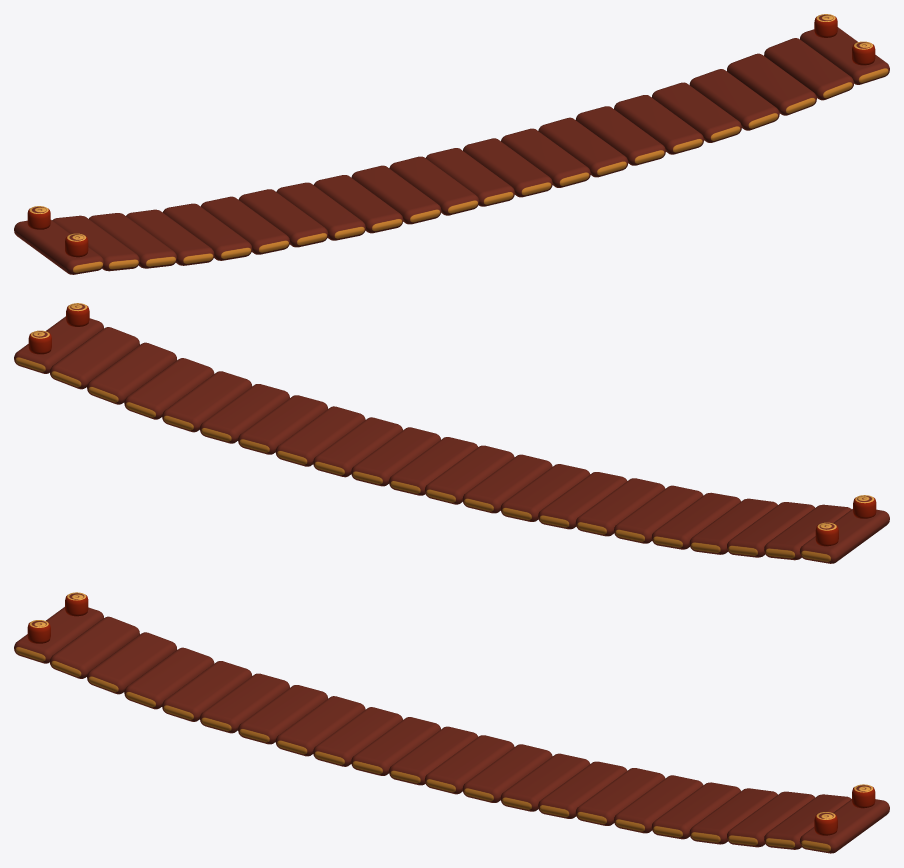
File: BridgeTibetan.fbx
3 renders of one model, top to bottom at view 1: azimuth 30°, elevation 25°; view 2: azimuth 150°, elevation 25°; view 3: azimuth 330°, elevation 25°, orthographic.
Parts seen in each view (by area): view 1: polySurface18; view 2: polySurface18; view 3: polySurface18.
Part boxes in pixels (x1,y1,x2,y2): polySurface18: (14, 27, 889, 274); polySurface18: (14, 316, 889, 563); polySurface18: (14, 607, 889, 853).
Size of what is drawn, in the model's own units: 16.22 by 1.16 by 1.99.
